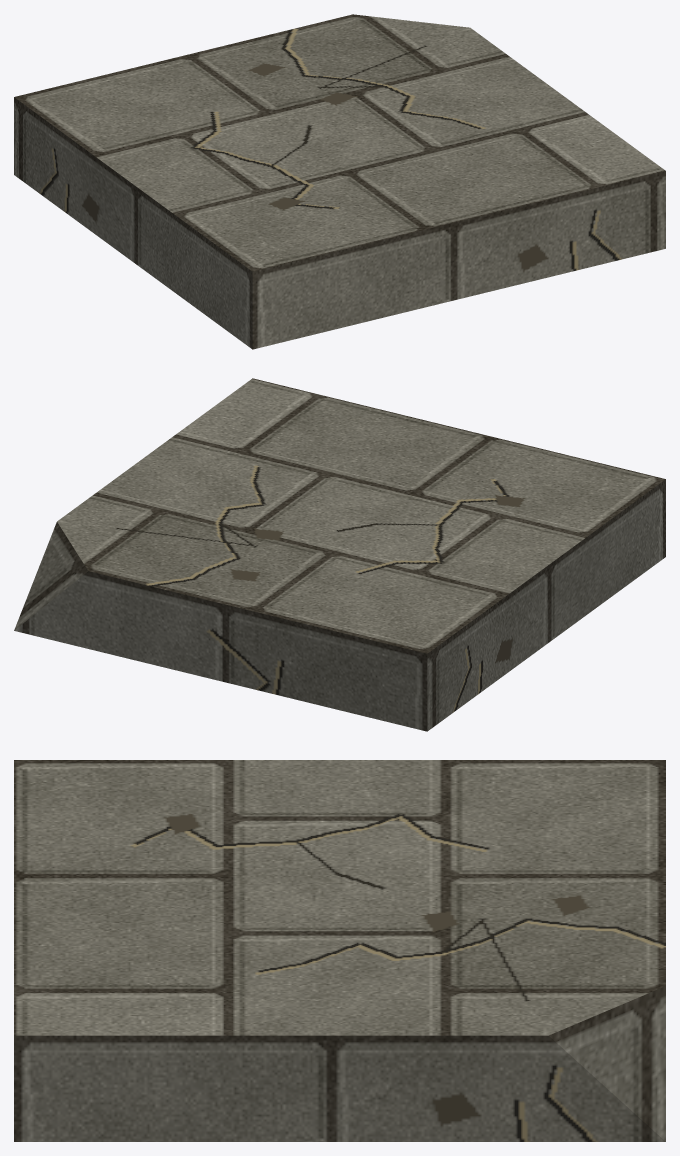
File: floor_z1.glb
3 renders of one model, top to bottom at view 1: azimuth 30°, elevation 25°; view 2: azimuth 150°, elevation 25°; view 3: azimuth 270°, elevation 25°, orthographic. The views are drawn at different scales.
Parts seen in each view (by area): view 1: floor_z1; view 2: floor_z1; view 3: floor_z1.
Part boxes in pixels (bbox=[...]): floor_z1: bbox=[14, 14, 665, 349]; floor_z1: bbox=[14, 378, 665, 731]; floor_z1: bbox=[14, 760, 665, 1141].
Bounding box in the file's own units: 1 × 0.18 × 1.
Materials: 1 (1 with a texture image).
